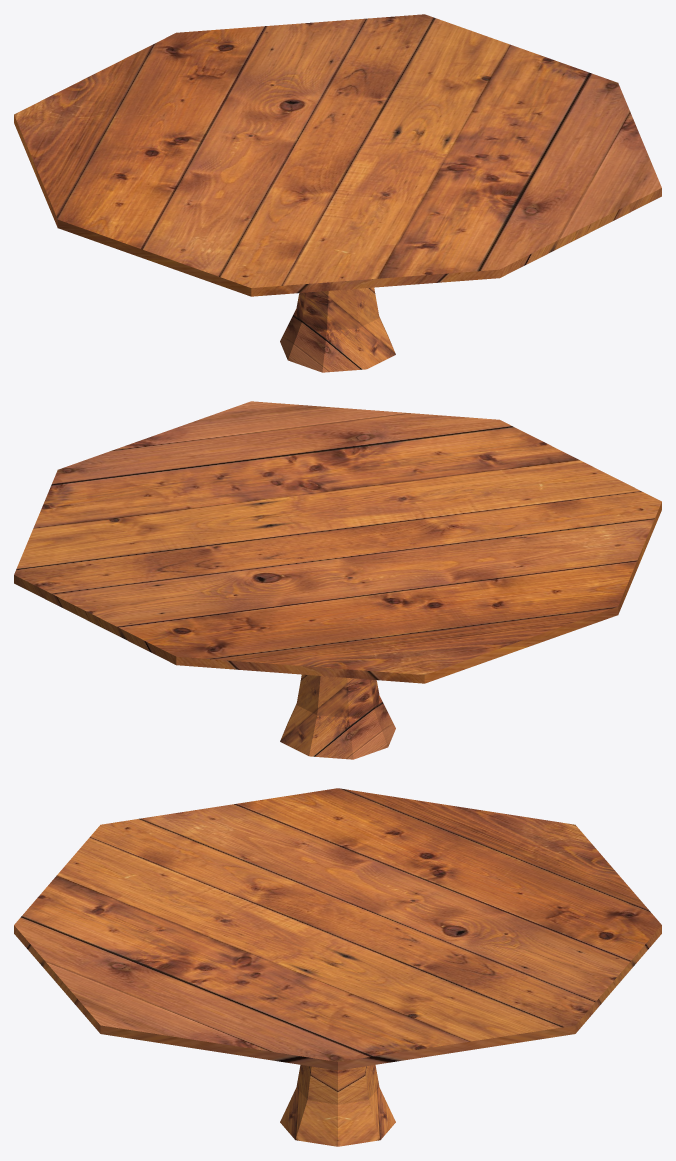
File: Stol.fbx
3 views of the same model, one above another, from view 1: azimuth 30°, elevation 25°; view 2: azimuth 150°, elevation 25°; view 3: azimuth 270°, elevation 25° (orthographic).
Visible parts, largest first — view 1: Stol; view 2: Stol; view 3: Stol.
Part boxes in pixels (x1=…): Stol: x1=14, y1=14, x2=661, y2=372; Stol: x1=14, y1=401, x2=661, y2=759; Stol: x1=14, y1=788, x2=661, y2=1146.
Bounding box in the file's own units: 4013 × 1348 × 4013.
